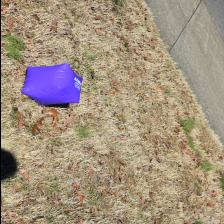cube: (20, 64, 82, 106)
